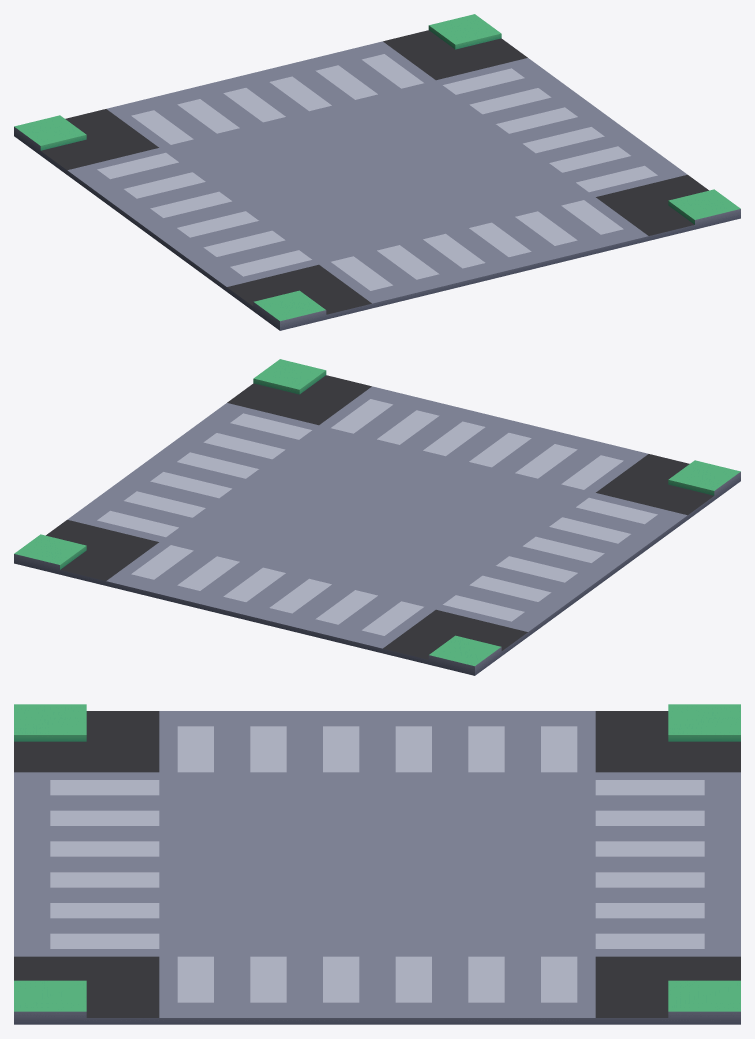
Rendered from road_crossroad_path.glb.
3 renders of one model, top to bottom at view 1: azimuth 30°, elevation 25°; view 2: azimuth 150°, elevation 25°; view 3: azimuth 270°, elevation 25°, orthographic. The views are drawn at different scales.
Visible parts, largest first — view 1: road-crossroad-path; view 2: road-crossroad-path; view 3: road-crossroad-path.
Boxes of the visible parts, x1,y1,x2,y2 form: road-crossroad-path: [14, 14, 740, 330]; road-crossroad-path: [14, 359, 740, 675]; road-crossroad-path: [14, 704, 740, 1024].
Bounding box in the file's own units: 1 × 0.02 × 1.
Materials: 1 (1 with a texture image).
